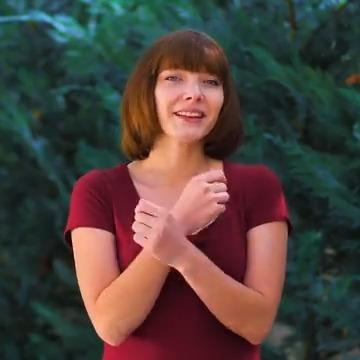love: (117, 157, 249, 285)
